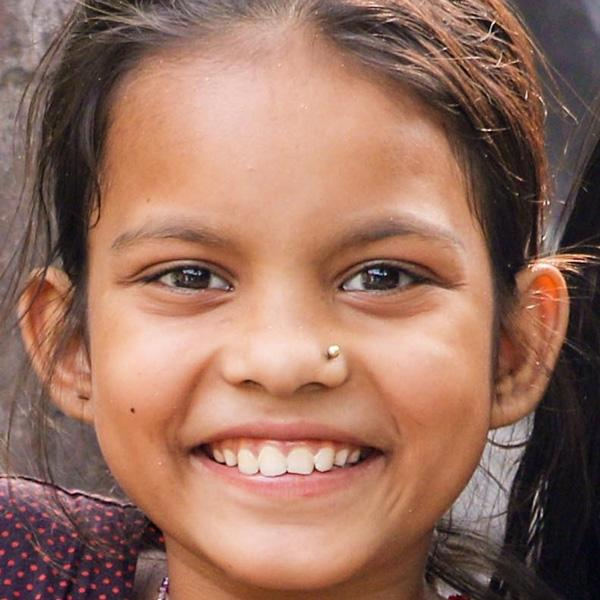Eyes: (118, 246, 244, 312), (328, 249, 445, 312)
